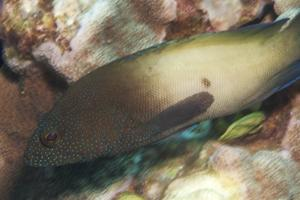Serranidae -Groupers-: (19, 0, 300, 177)
